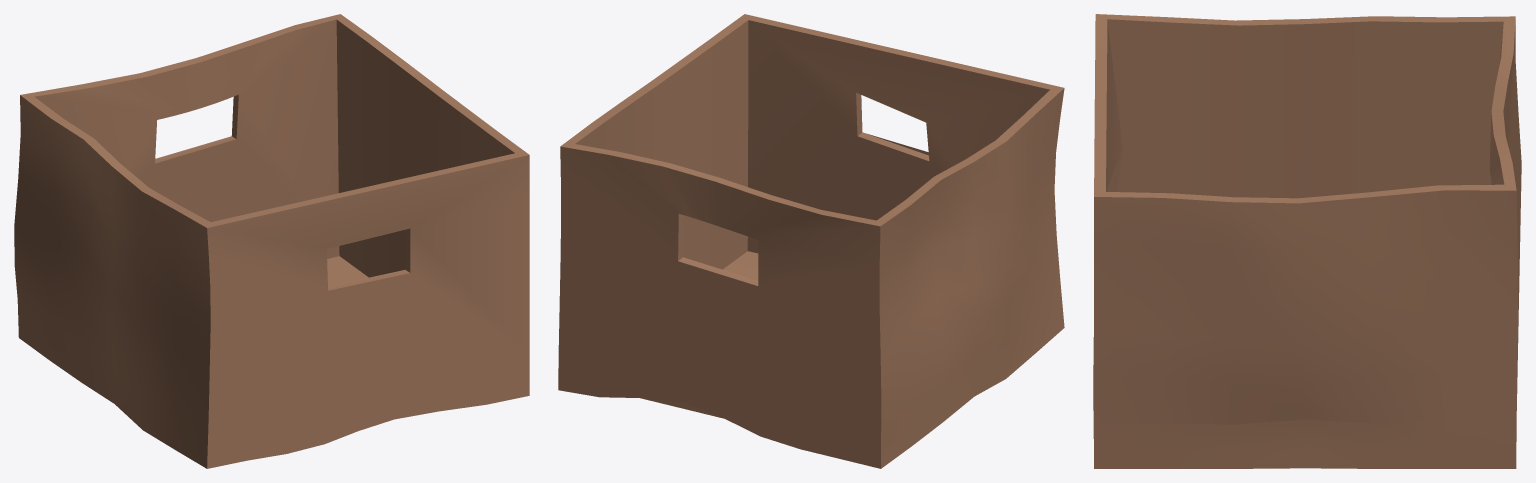
The model's file is Scatolone_Rovinato.fbx.
3 renders of one model, left to right at view 1: azimuth 30°, elevation 25°; view 2: azimuth 150°, elevation 25°; view 3: azimuth 270°, elevation 25°, orthographic. The views are drawn at different scales.
Visible parts, largest first — view 1: Cube; view 2: Cube; view 3: Cube.
Boxes of the visible parts, <box> form: Cube: <box>14,14,529,468</box>; Cube: <box>558,14,1064,468</box>; Cube: <box>1093,14,1521,468</box>.
Size of the model in its own units: 52.01 by 36.65 by 50.72.
